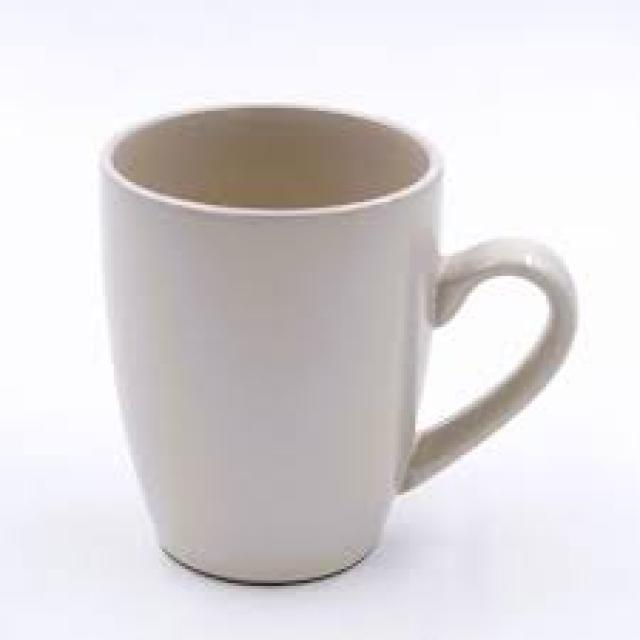taza: (100, 98, 578, 586)
